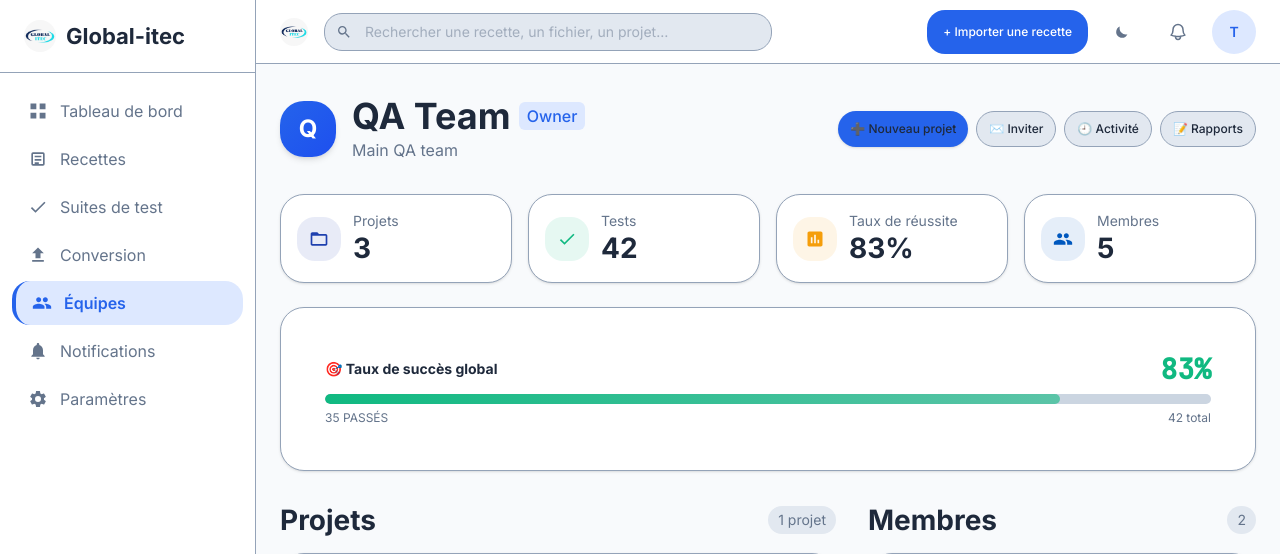
TeamDashboardPage › opens invite modal
Click the button "✉️ Inviter": (1016, 129) [976,111,1056,147]
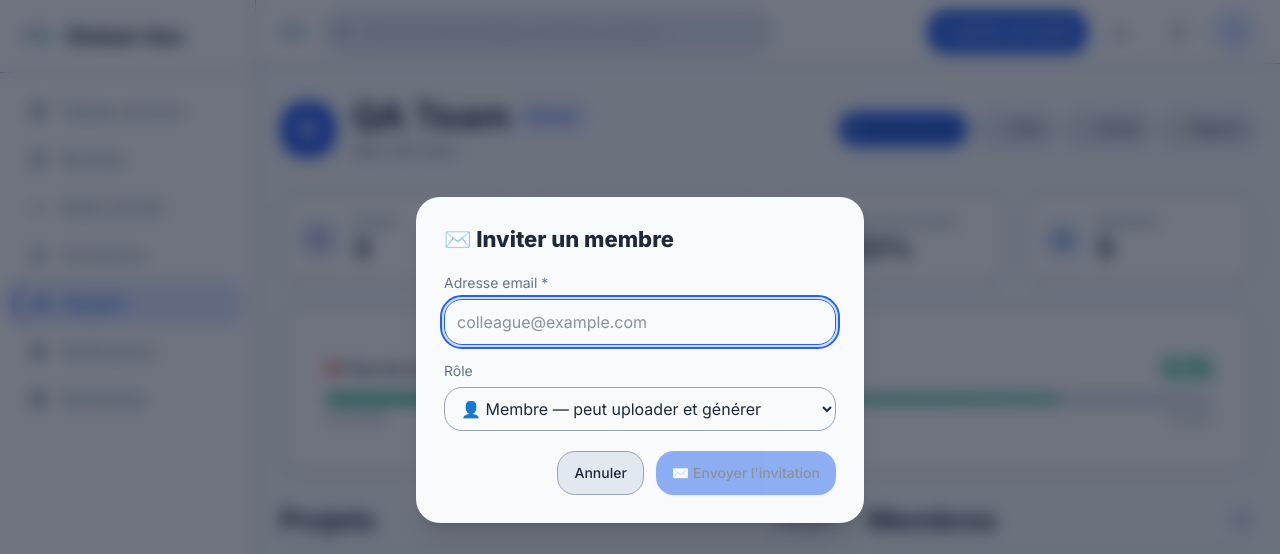
expect the heading "✉️ Inviter un membre" is shown: met, box [444,226,674,252]
